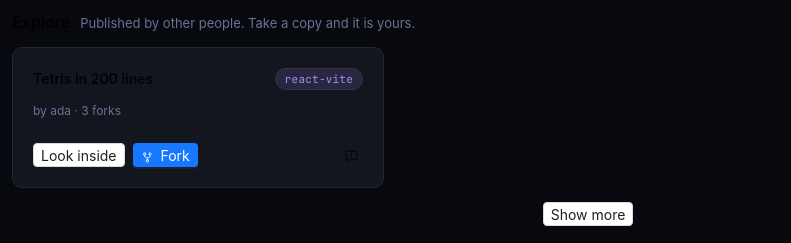
Scenario: more than one page › asks for the next page with the cursor it was given
Click the button "Show more" at (588, 214), box [543,202,633,226]
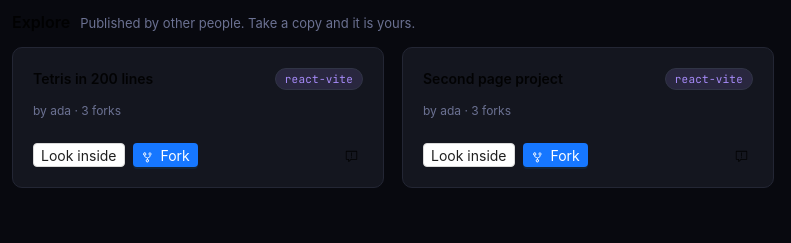
Expected: the text "Second page project" is shown, [423,70,563,87]
Expected: the button "Show more" is gone
